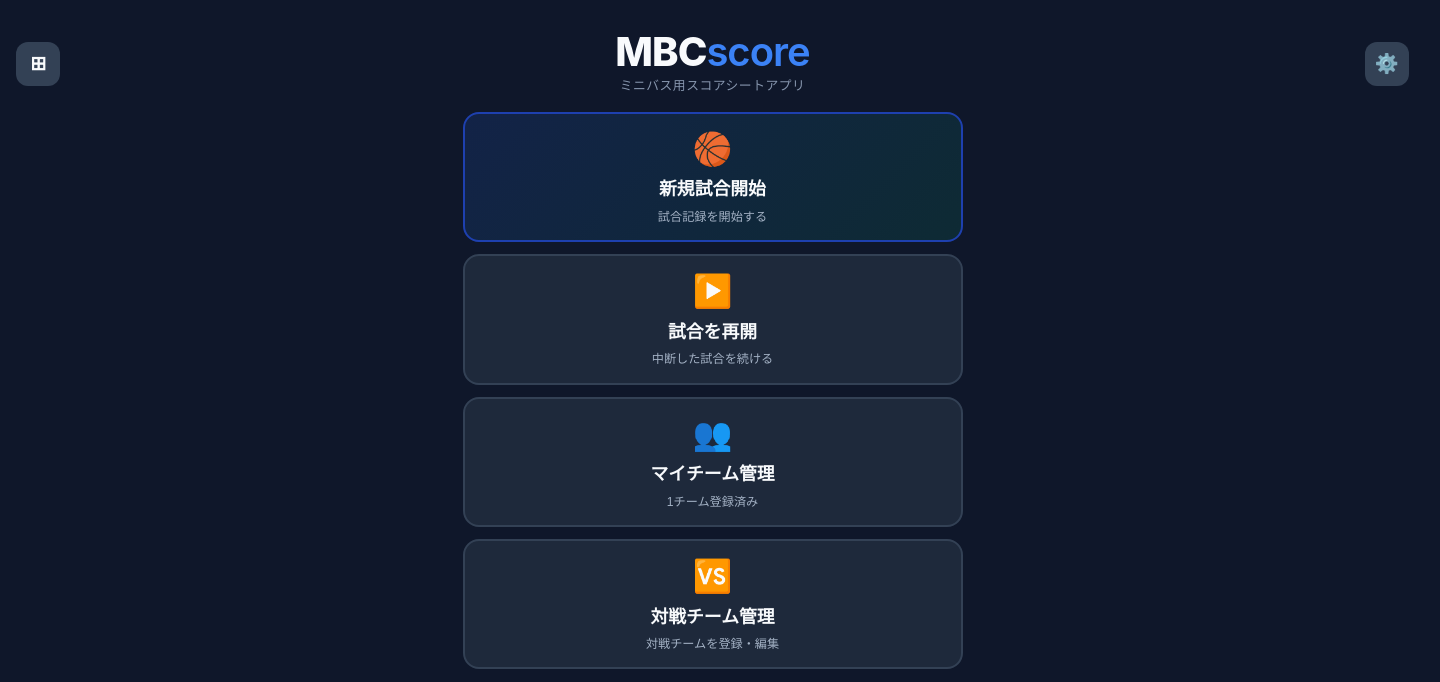
保留ファウルとチームファウル › TFバッジも同じ数を出す
The width and height of the screenshot is (1440, 682).
Step 1. Click the text "試合を再開" → (713, 330), box [668,317,757,343]
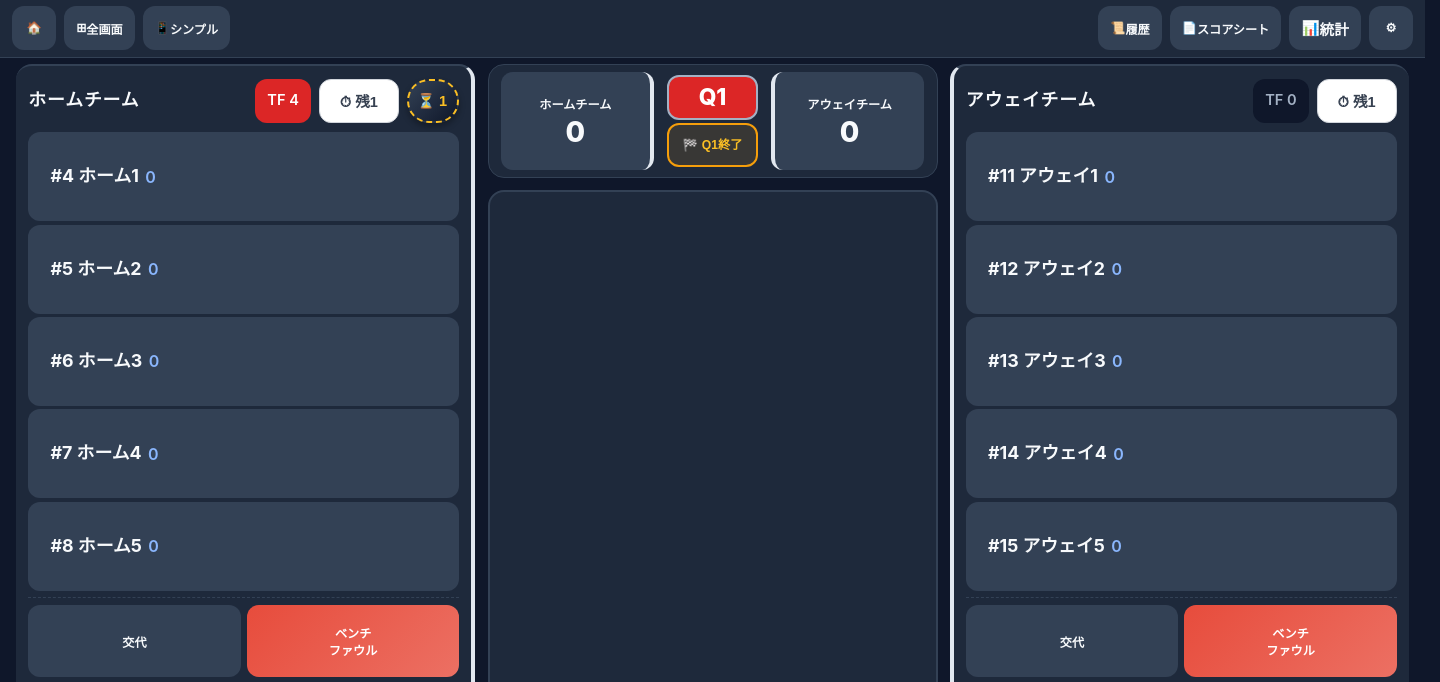
Check: the text "TF 4" is shown, box [255,78,311,122]
